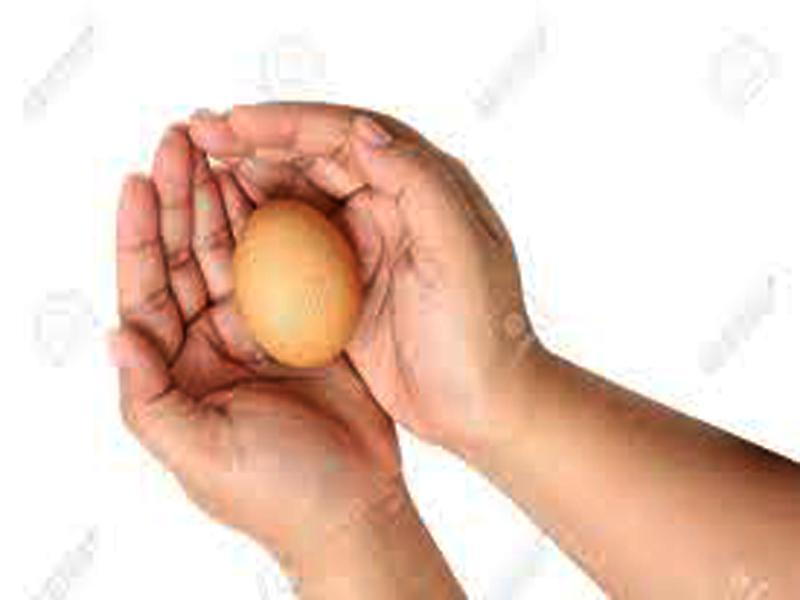Eggs: (236, 203, 361, 364)
